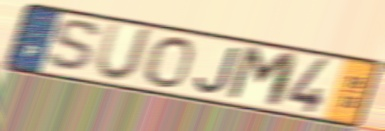4: (284, 55, 331, 116)
J: (193, 44, 244, 96)
M: (222, 43, 302, 112)
O: (142, 35, 196, 90)
S: (43, 18, 105, 75)
U: (92, 21, 156, 85)
